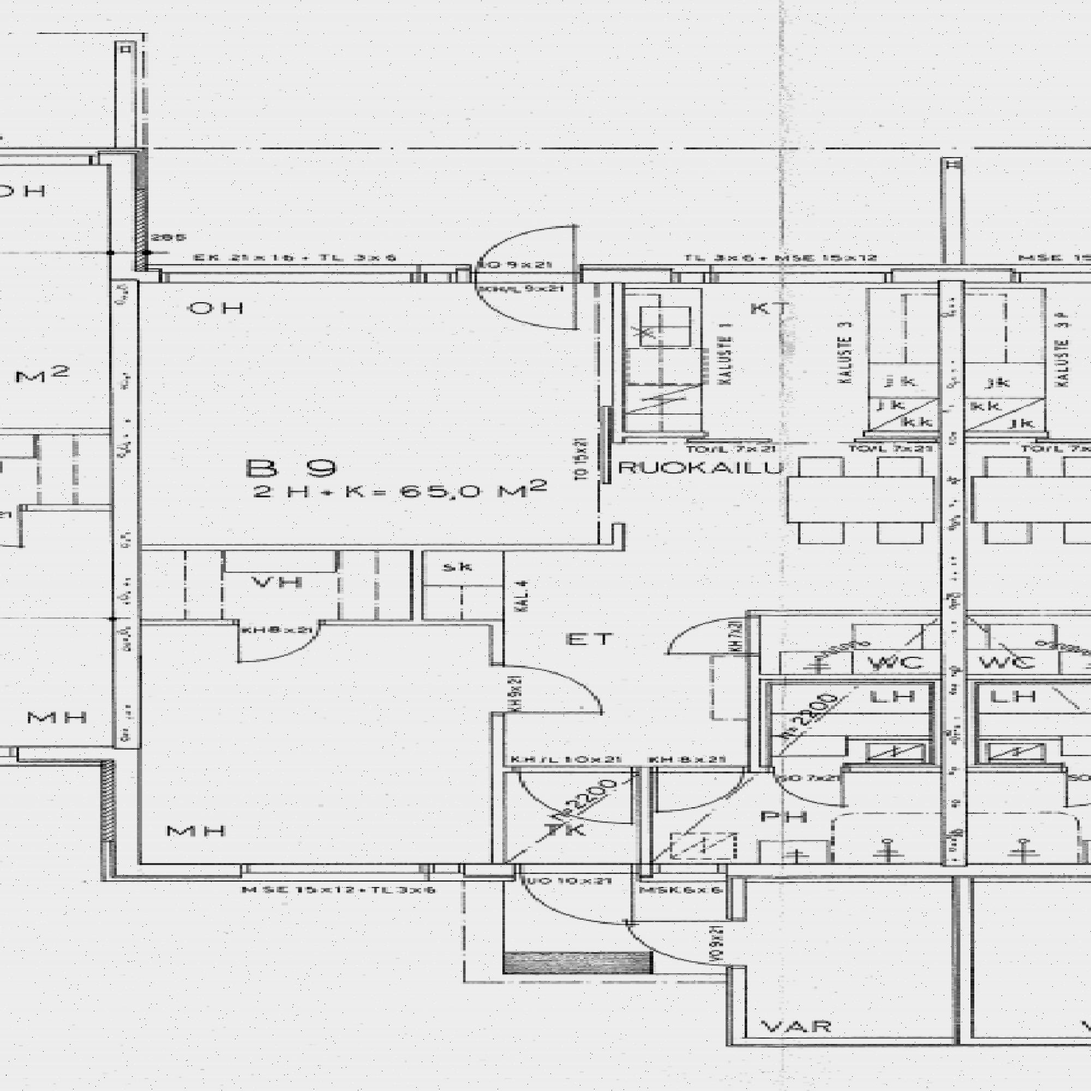wall: (112, 265, 960, 283), (101, 865, 965, 882), (112, 265, 139, 747), (939, 265, 965, 683), (101, 747, 140, 882), (112, 149, 149, 265), (726, 865, 747, 1046), (610, 265, 623, 551), (930, 682, 965, 773), (492, 620, 504, 883), (955, 865, 972, 1046), (112, 546, 623, 552), (939, 773, 965, 882), (111, 621, 504, 627), (115, 41, 136, 149), (939, 157, 960, 265), (611, 432, 965, 438), (749, 675, 770, 773), (749, 764, 965, 773), (749, 675, 965, 683), (726, 1039, 972, 1046), (641, 768, 653, 882), (749, 611, 965, 617), (491, 768, 748, 773), (411, 545, 424, 626), (748, 611, 760, 675), (939, 265, 965, 283), (955, 865, 972, 882)
